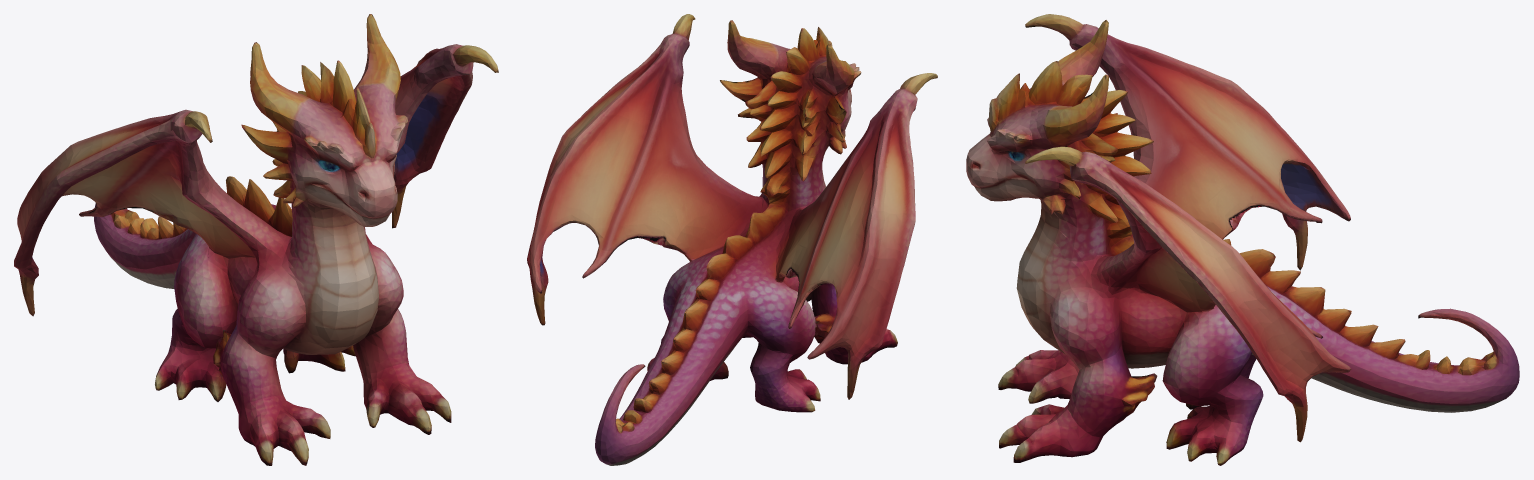
The picture shows the model from 3 angles, left to right: view 1: azimuth 30°, elevation 25°; view 2: azimuth 150°, elevation 25°; view 3: azimuth 270°, elevation 25°; orthographic projection. The views are drawn at different scales.
Visible parts, largest first — view 1: world; view 2: world; view 3: world.
Part boxes in pixels (<box>): world: <box>14,14,498,465</box>; world: <box>527,14,937,465</box>; world: <box>966,14,1519,465</box>.
Bounding box in the file's own units: 0.8587 × 0.7439 × 1.
1 material, 1 textured.
